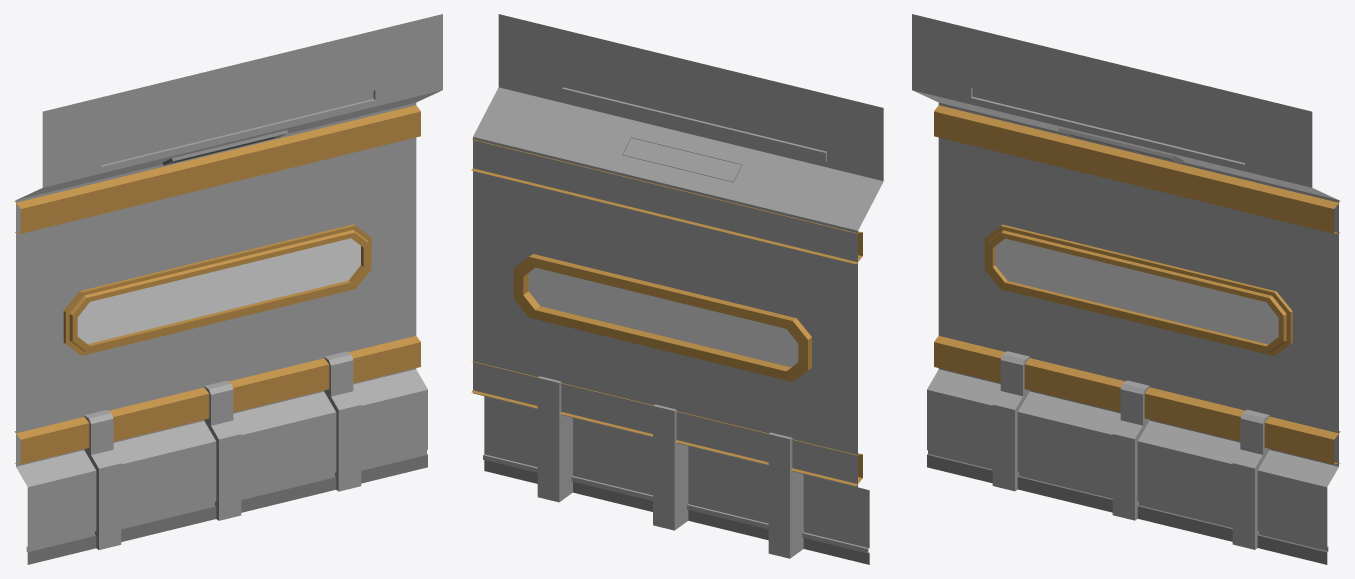
File: LongWindow_Wall_SideB.glb
The picture shows the model from 3 angles, left to right: view 1: azimuth 30°, elevation 25°; view 2: azimuth 150°, elevation 25°; view 3: azimuth 330°, elevation 25°; orthographic projection. The views are drawn at different scales.
Visible parts, largest first — view 1: LongWindow_Wall_SideB; view 2: LongWindow_Wall_SideB; view 3: LongWindow_Wall_SideB.
Boxes of the visible parts, <box> form: LongWindow_Wall_SideB: <box>14,14,442,564</box>; LongWindow_Wall_SideB: <box>471,14,883,564</box>; LongWindow_Wall_SideB: <box>912,14,1340,564</box>.
Size of the model in its own units: 4 by 4.43 by 0.5355.
